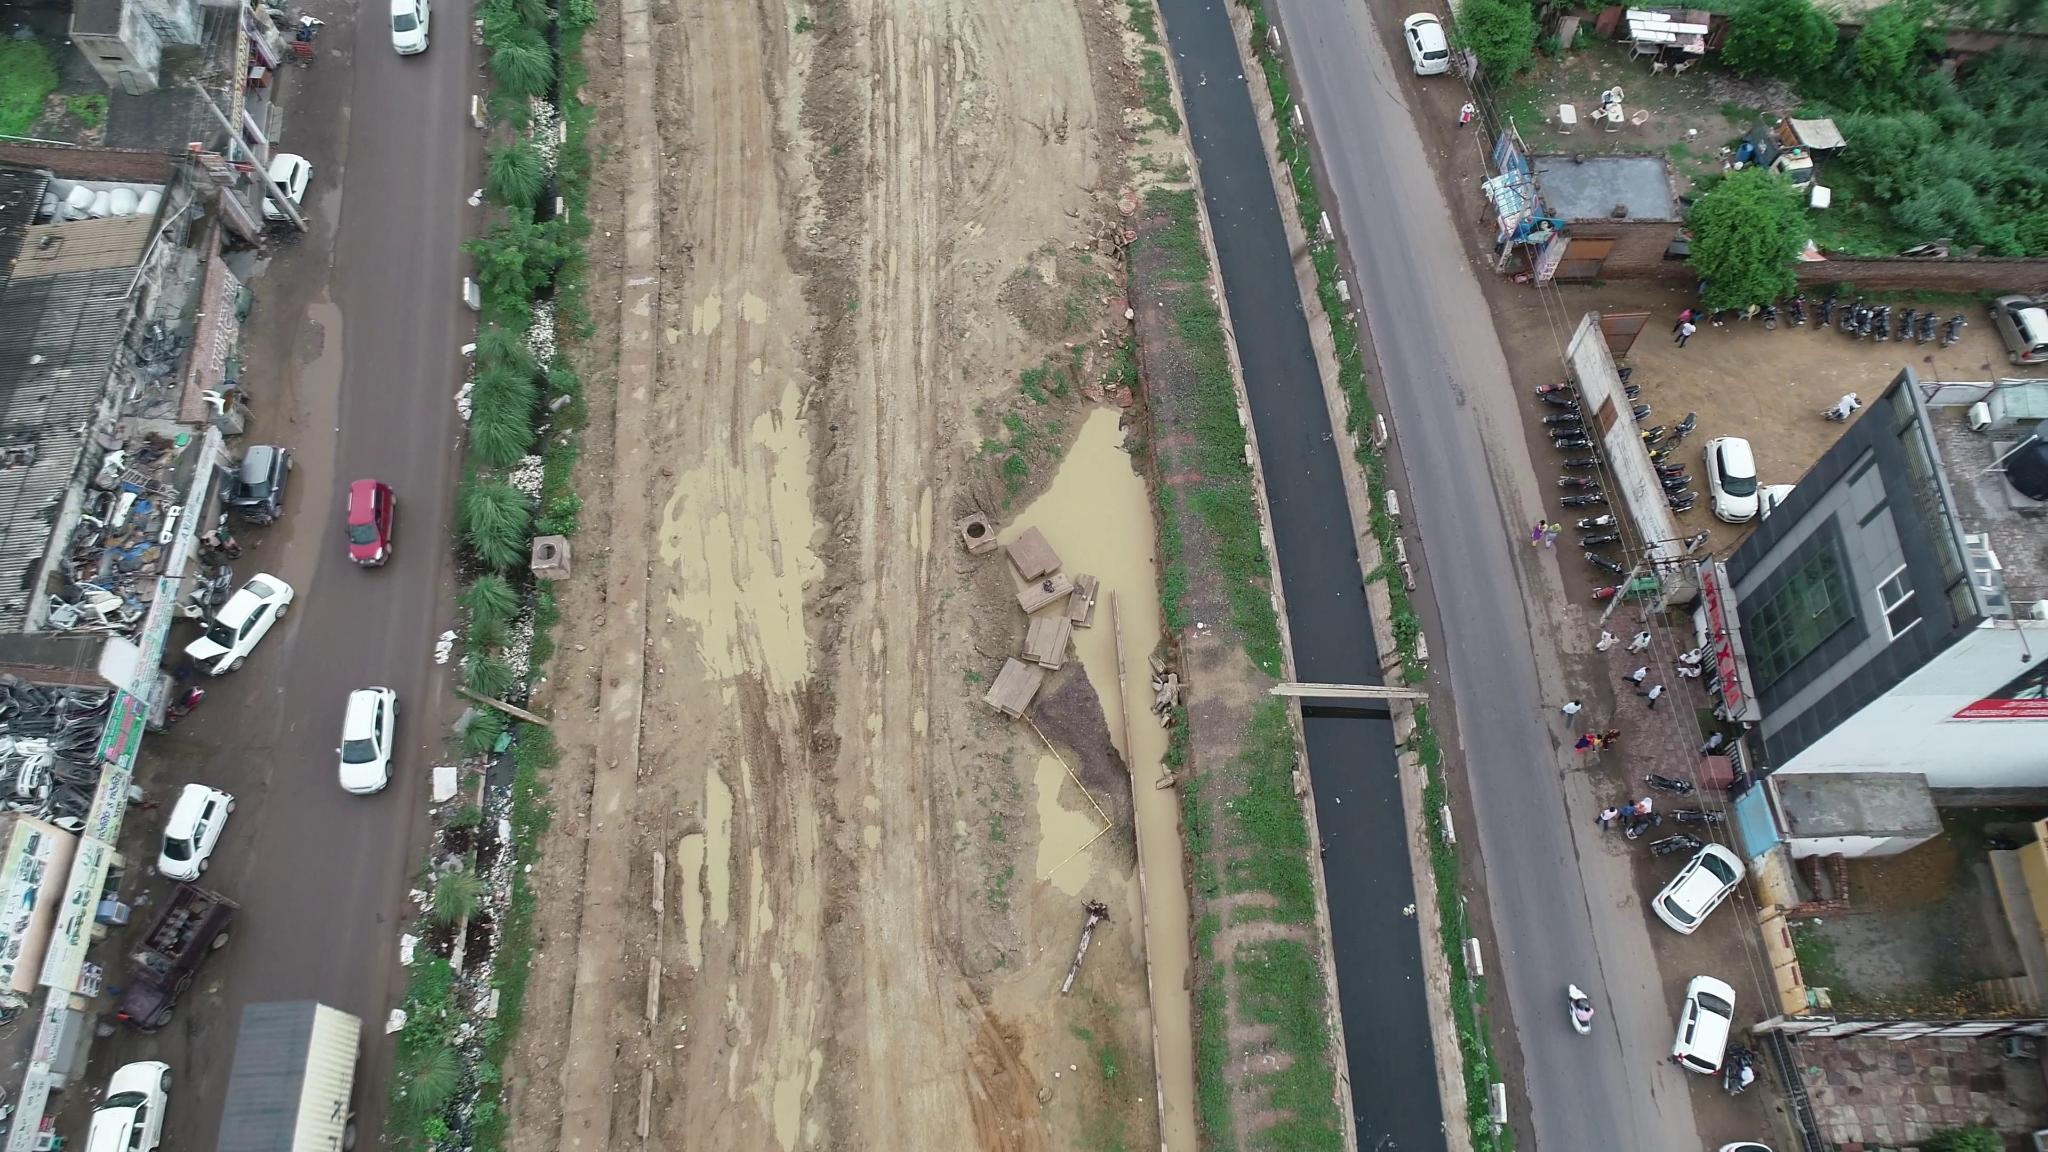Waterlogging: (273, 295, 361, 610)
